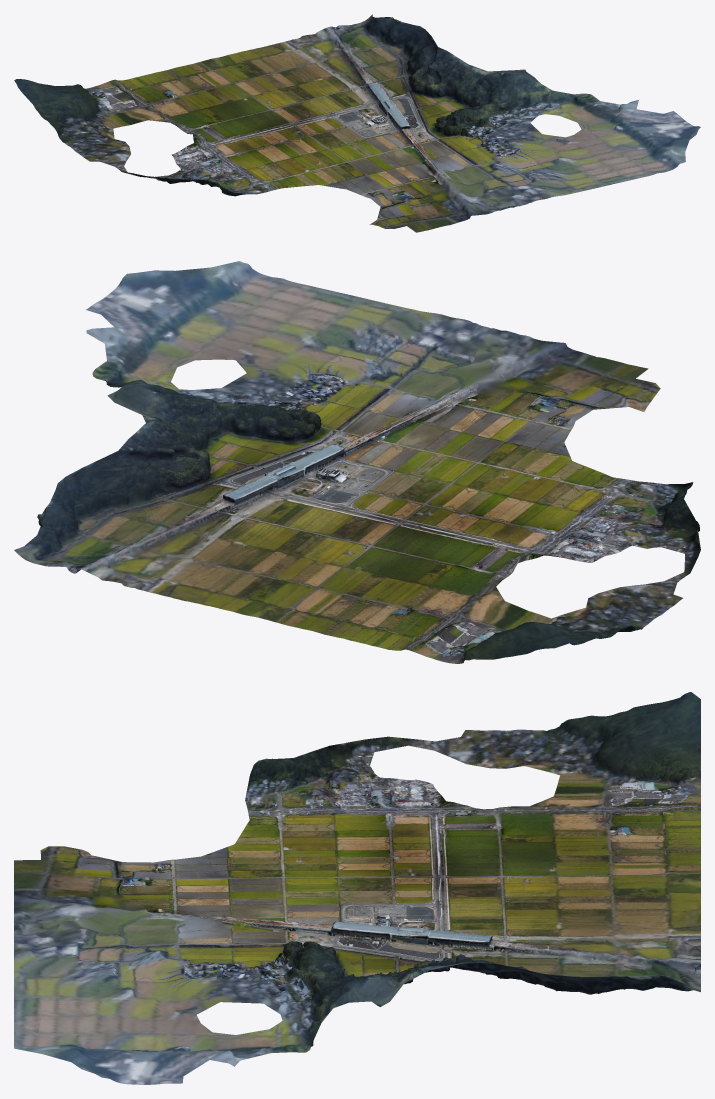
File: echizen-takefu_base.glb
The picture shows the model from 3 angles, top to bottom: view 1: azimuth 30°, elevation 25°; view 2: azimuth 150°, elevation 25°; view 3: azimuth 270°, elevation 25°; orthographic projection. The views are drawn at different scales.
Visible parts, largest first — view 1: baked_mesh; view 2: baked_mesh; view 3: baked_mesh.
Boxes of the visible parts, <box> form: baked_mesh: <box>14,14,700,232</box>; baked_mesh: <box>14,261,700,663</box>; baked_mesh: <box>14,692,700,1084</box>.
Size of the model in its own units: 1638 by 111 by 1340.
Materials: 1 (1 with a texture image).
